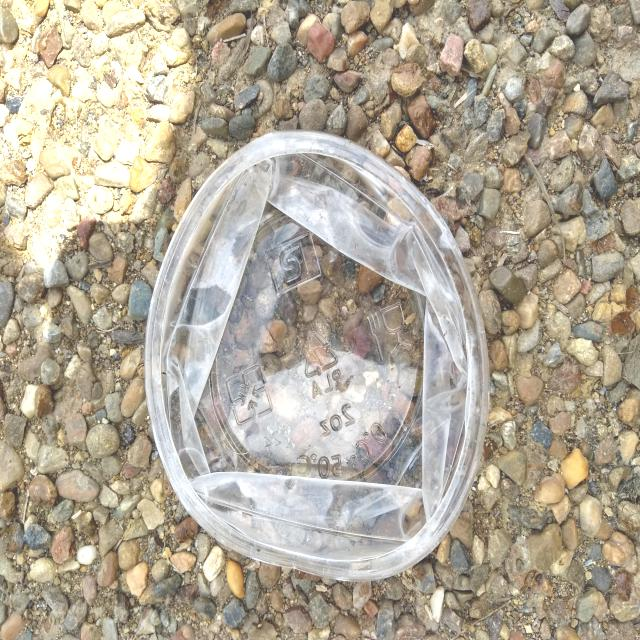Disposable food container: (145, 129, 490, 582)
